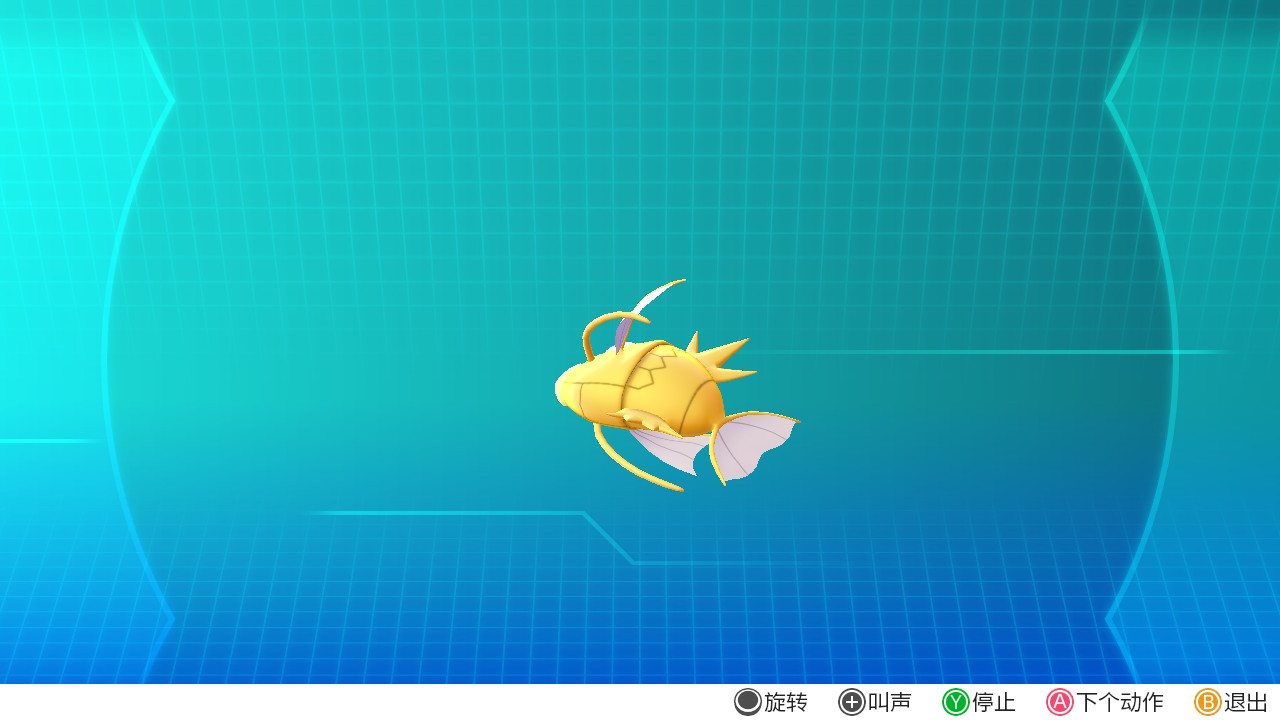Golden: (540, 274, 803, 502)
